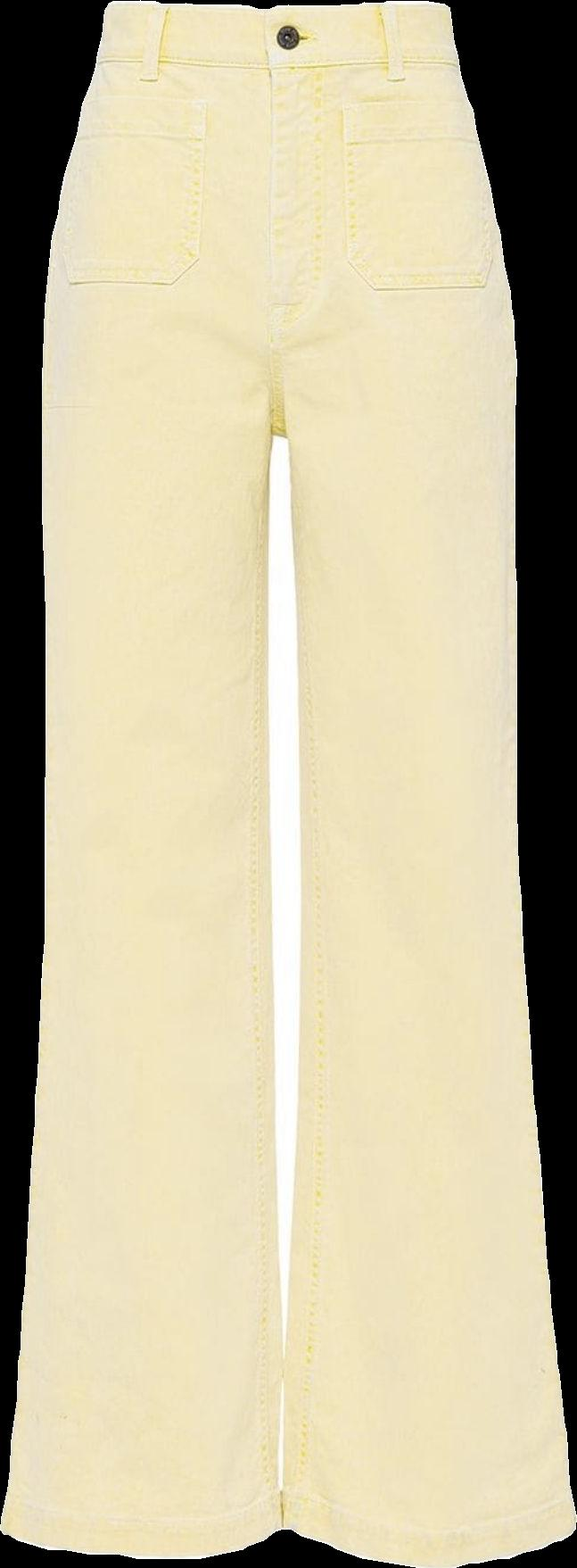Hemline: (276, 1512, 576, 1566), (0, 1510, 289, 1566)
Pantleg: (260, 0, 576, 1567), (1, 3, 283, 1556)
Waistline: (96, 45, 458, 80), (102, 0, 446, 23)
